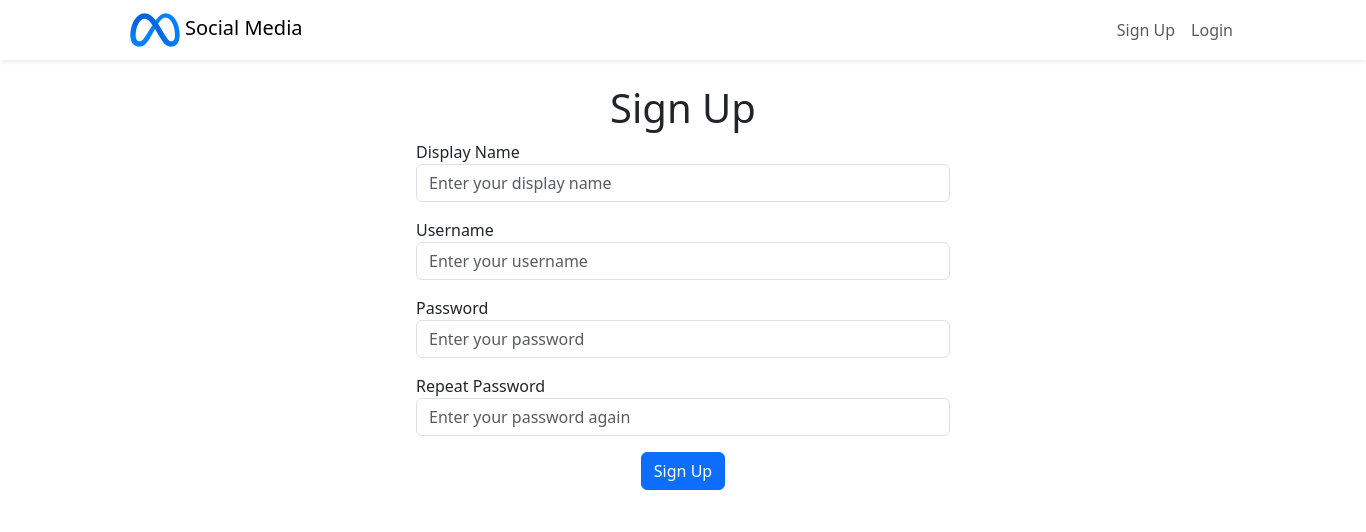
Test case: App › displays My Profile on TopBar after signup success
Type "display1" into the field with placeholder "Enter your display name" at (683, 183), box [416, 164, 950, 202]
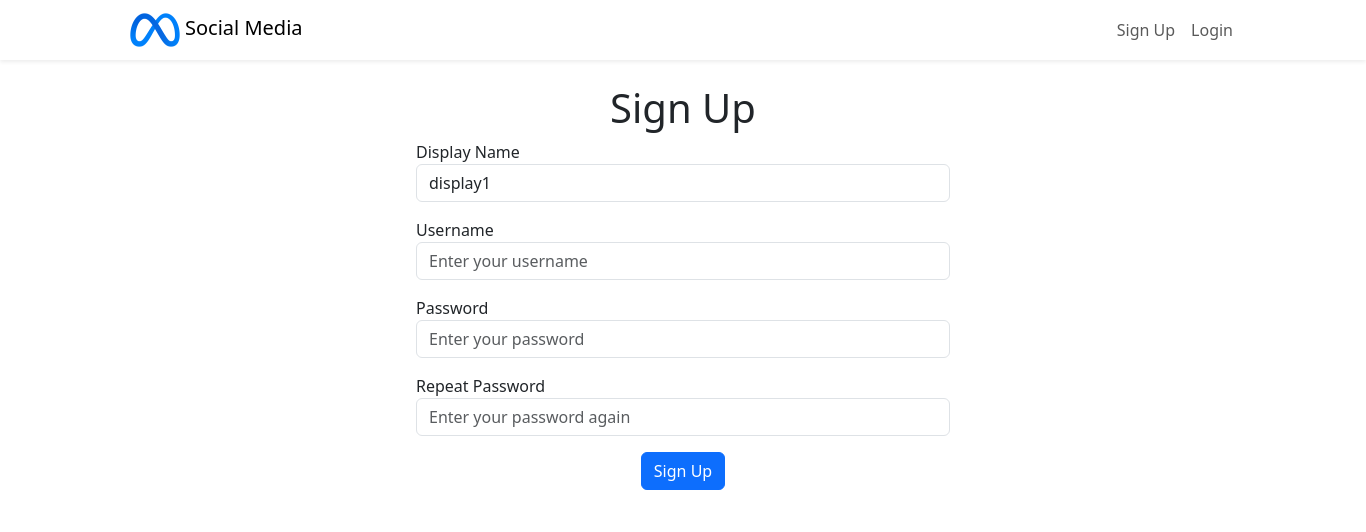
Type "user1" into the field with placeholder "Enter your username" at (683, 261), box [416, 242, 950, 280]
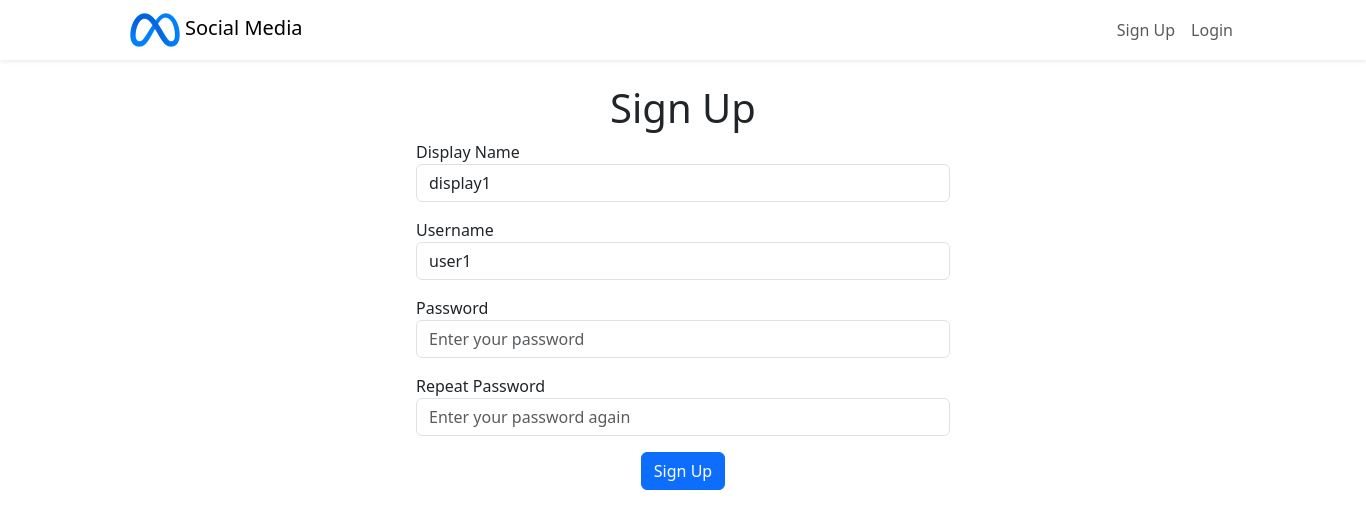
Type "P4ssword" into the password field with placeholder "Enter your password" at (683, 339), box [416, 320, 950, 358]
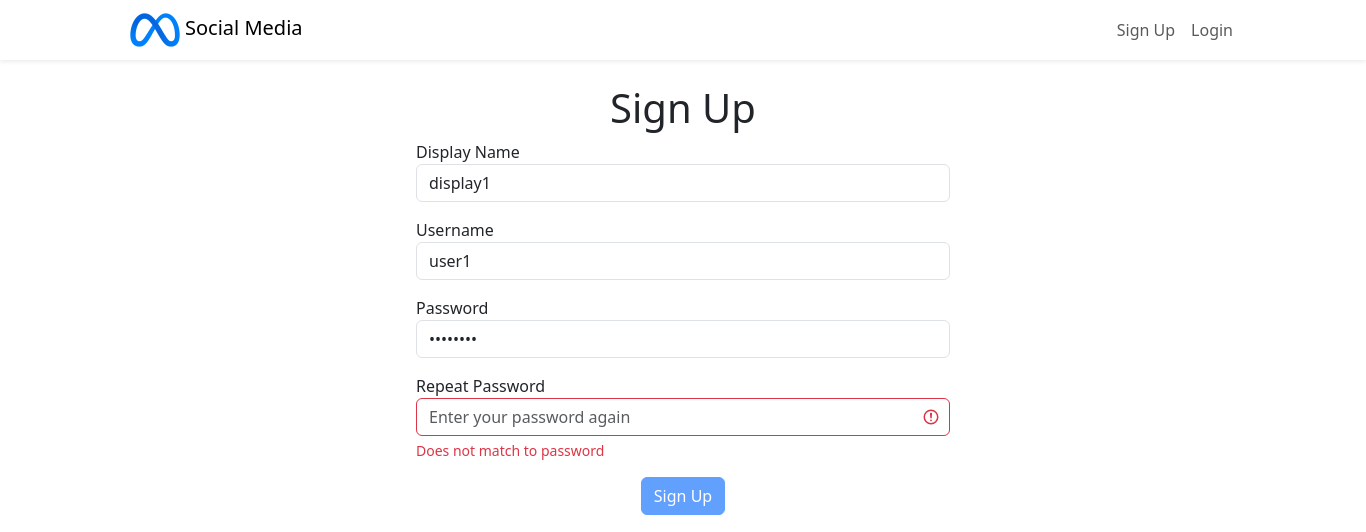
Type "P4ssword" into the password field with placeholder "Enter your password again" at (683, 417), box [416, 398, 950, 436]
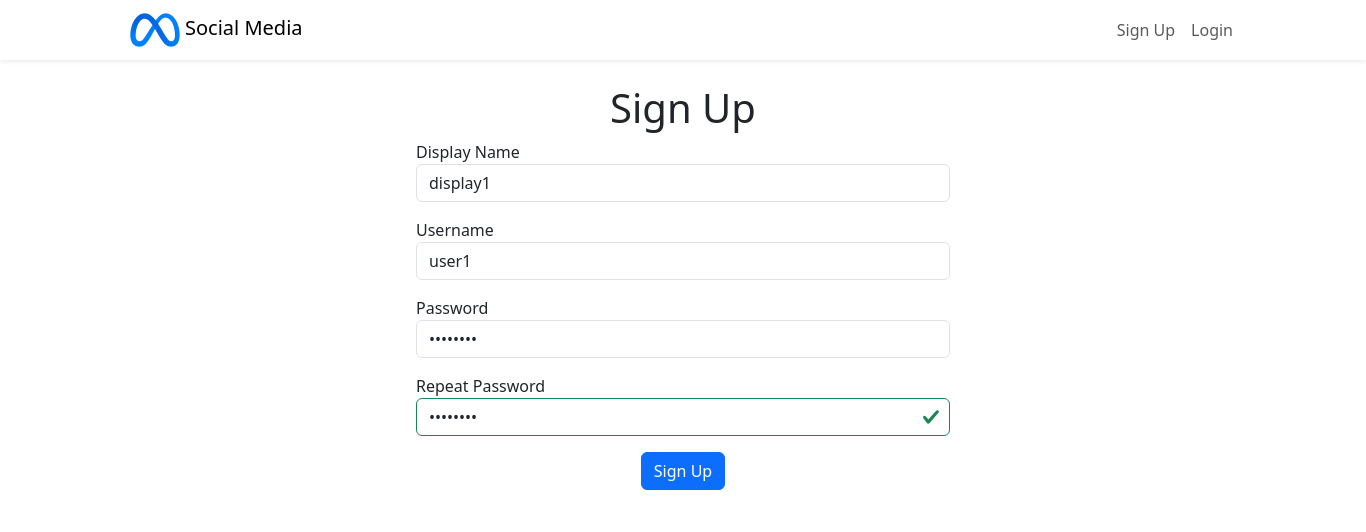
Click the button at (683, 471), box [641, 452, 725, 490]
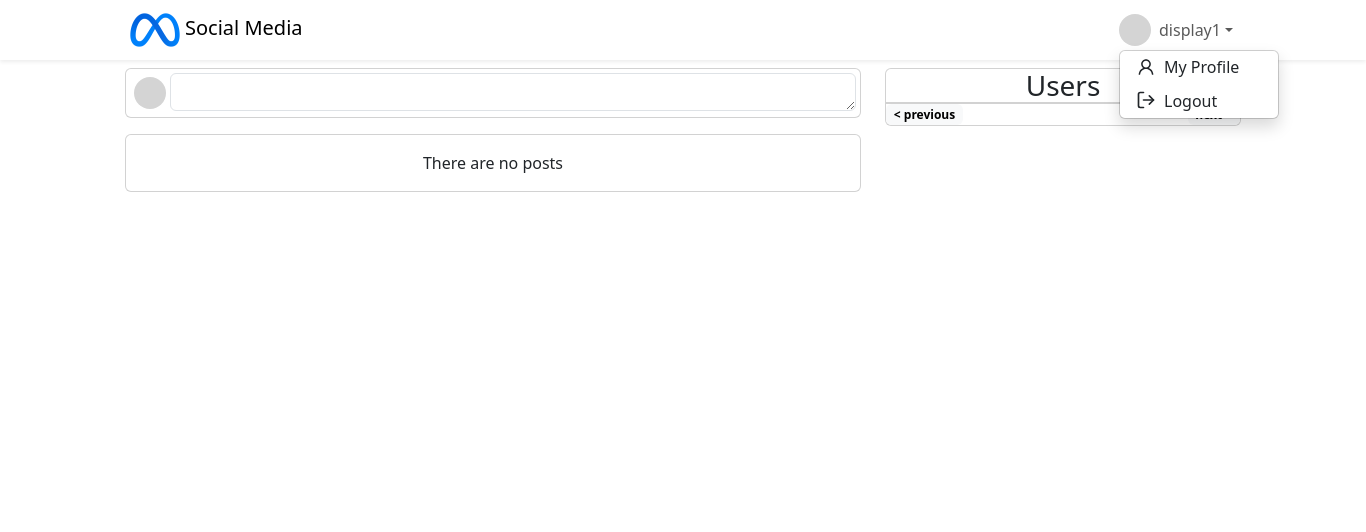
Expected: the link "My Profile" is shown, [1136, 56, 1239, 78]
